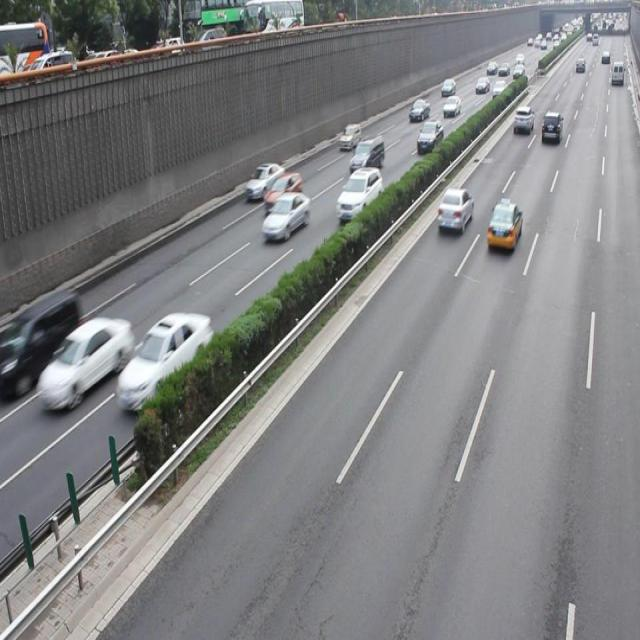car: (117, 310, 212, 412), (35, 316, 131, 413), (260, 189, 310, 241), (334, 168, 382, 221), (485, 201, 521, 254), (437, 186, 472, 232), (263, 171, 302, 212), (244, 162, 284, 201)
truck: (12, 290, 78, 400), (347, 136, 384, 171)
